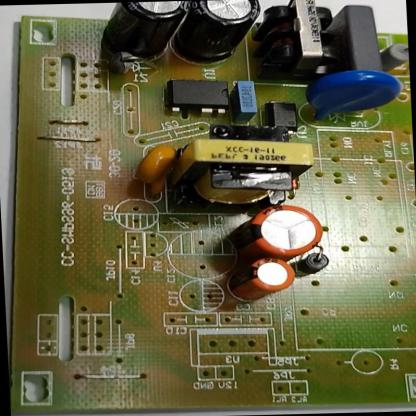Cap1: (221, 205, 323, 260)
Cap2: (231, 258, 294, 301)
Cap3: (182, 0, 266, 68)
Cap4: (96, 0, 192, 62)
MOSFET: (164, 75, 233, 115)
Mov: (306, 67, 405, 120)
Resistor: (380, 41, 408, 69)
Transformer: (165, 128, 316, 207), (264, 0, 337, 75)
